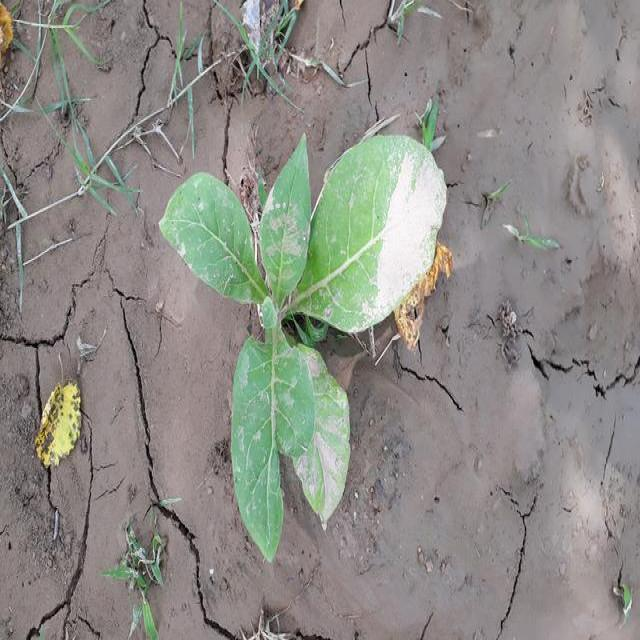crop: (158, 132, 446, 557)
